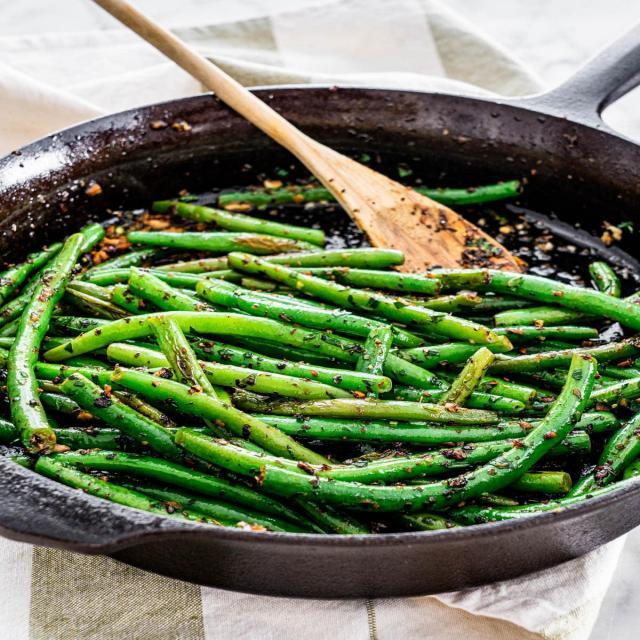Beans: (0, 158, 639, 541)
